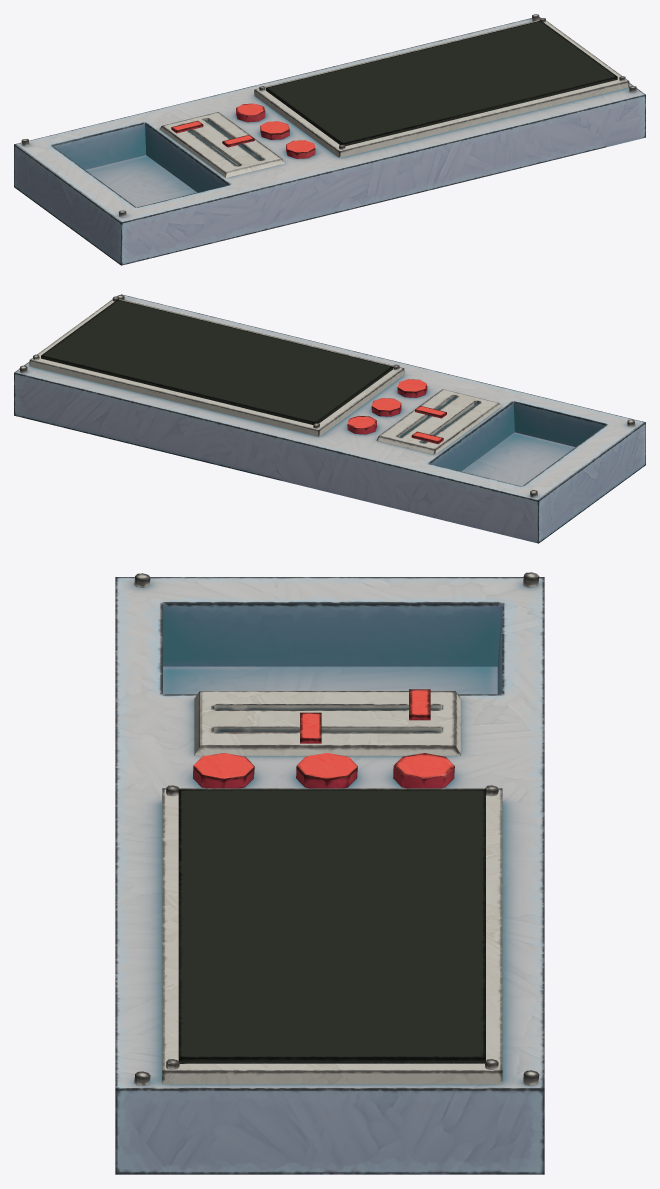
The model's file is ControlPannelModified.fbx.
3 views of the same model, one above another, from view 1: azimuth 30°, elevation 25°; view 2: azimuth 150°, elevation 25°; view 3: azimuth 270°, elevation 25° (orthographic). The views are drawn at different scales.
Parts seen in each view (by area): view 1: ControlPannelModified; view 2: ControlPannelModified; view 3: ControlPannelModified.
Part boxes in pixels (x1=…): ControlPannelModified: x1=14, y1=14, x2=645, y2=265; ControlPannelModified: x1=14, y1=294, x2=645, y2=543; ControlPannelModified: x1=115, y1=572, x2=544, y2=1174.
Bounding box in the file's own units: 3.87 × 0.3685 × 1.37.
